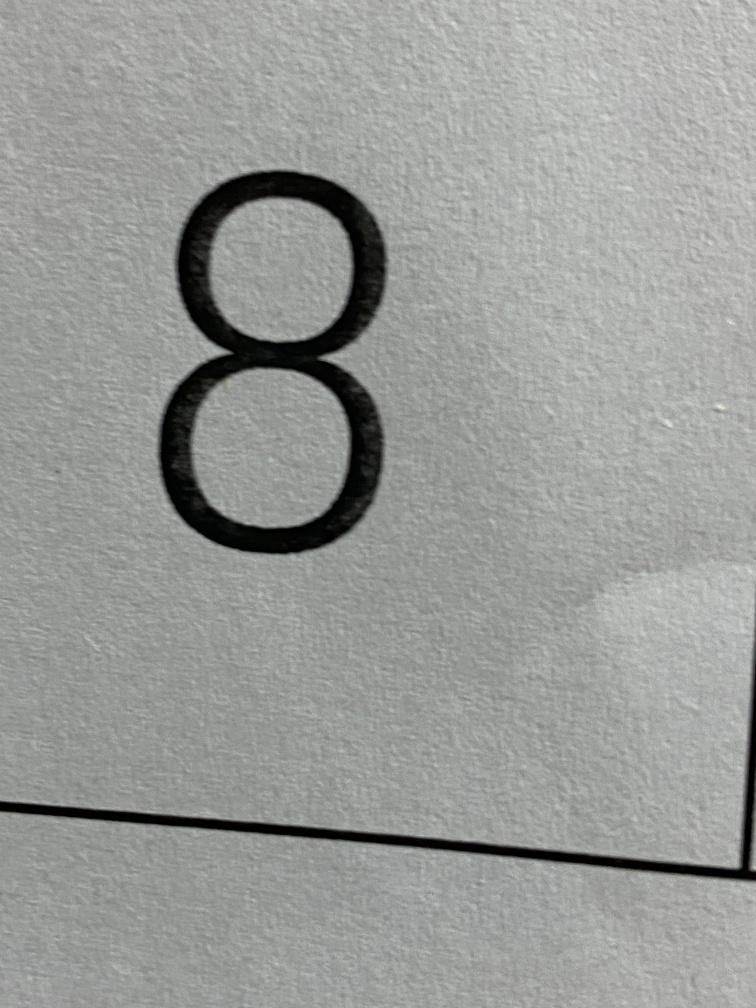eight: (91, 120, 476, 613)
